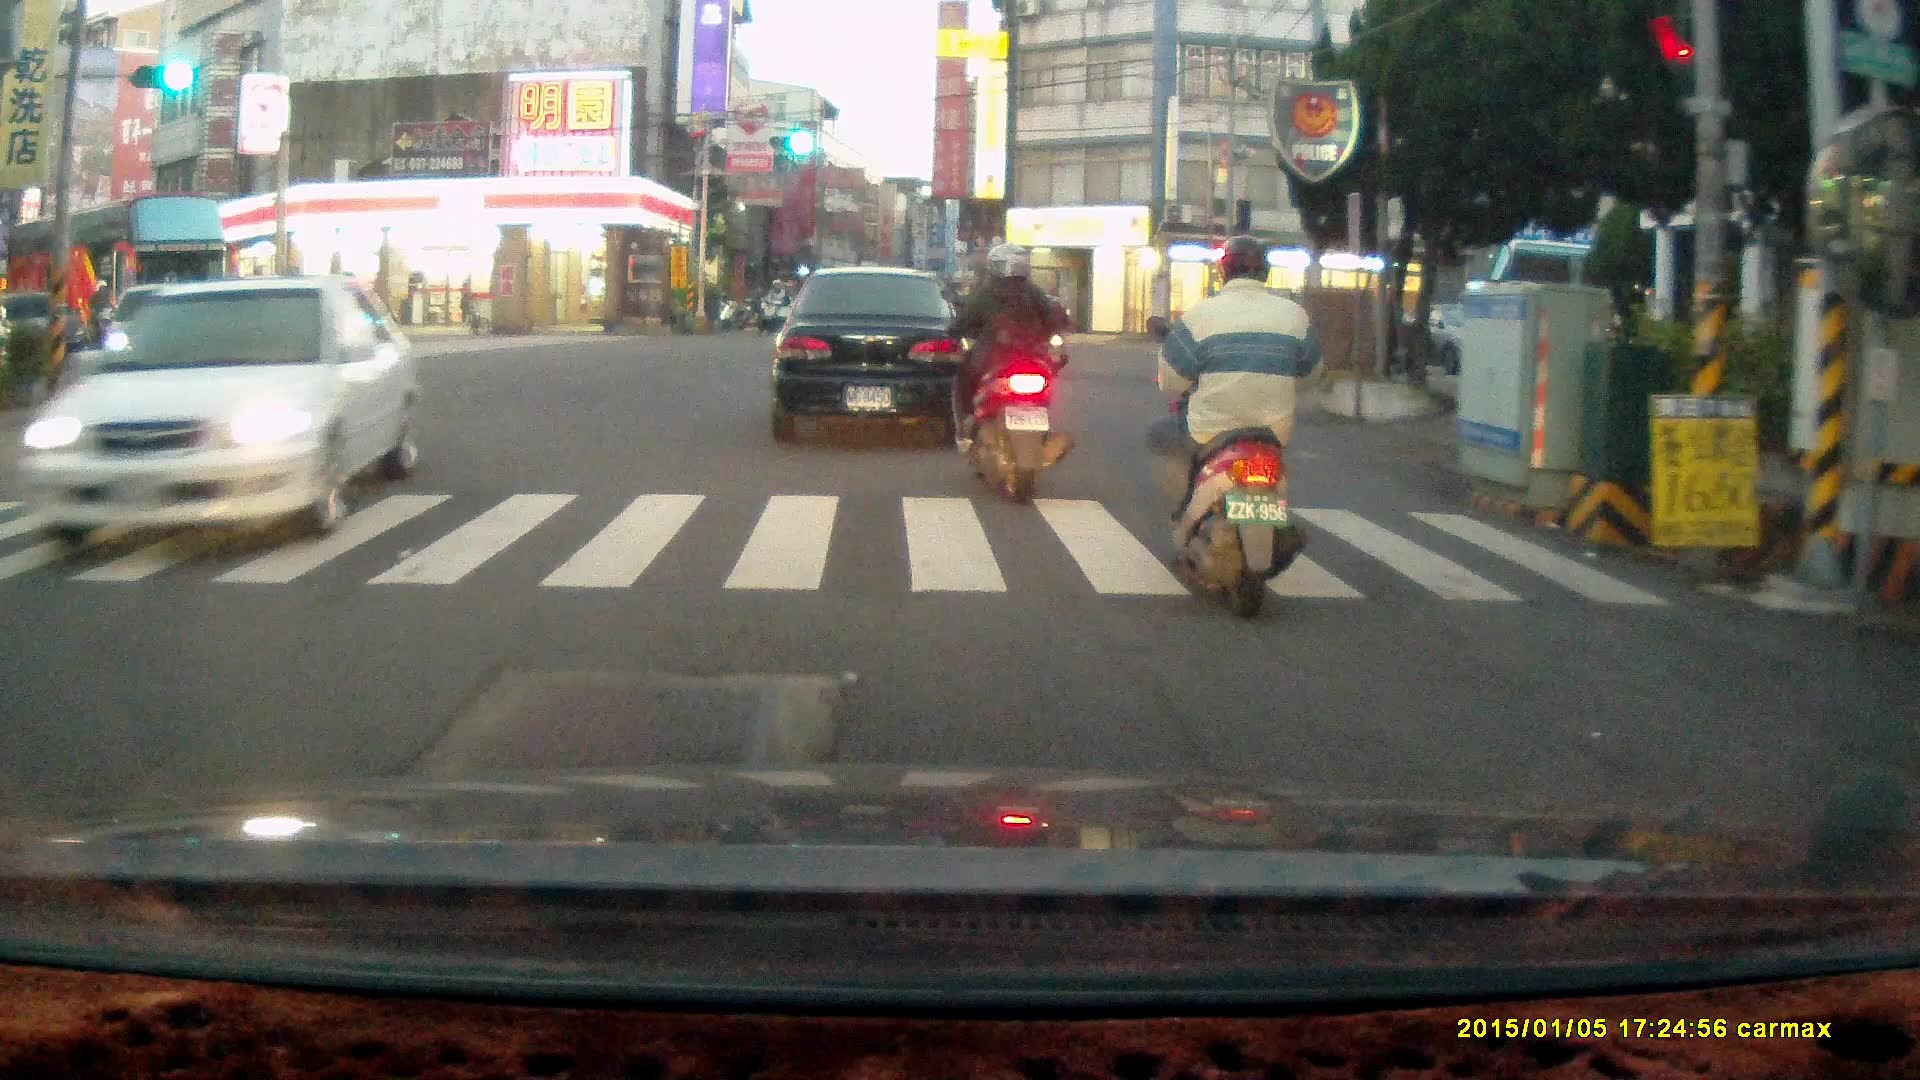rider: (1141, 230, 1317, 622), (939, 234, 1075, 500), (757, 276, 787, 328)
vehicle: (23, 278, 414, 586), (767, 264, 981, 446), (15, 194, 233, 354)
